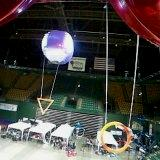Orange_Circle_GShape: (100, 122, 132, 155)
Orange_Triangle_Gshape: (37, 98, 54, 115)
Purple_Balloon: (43, 31, 73, 62)
